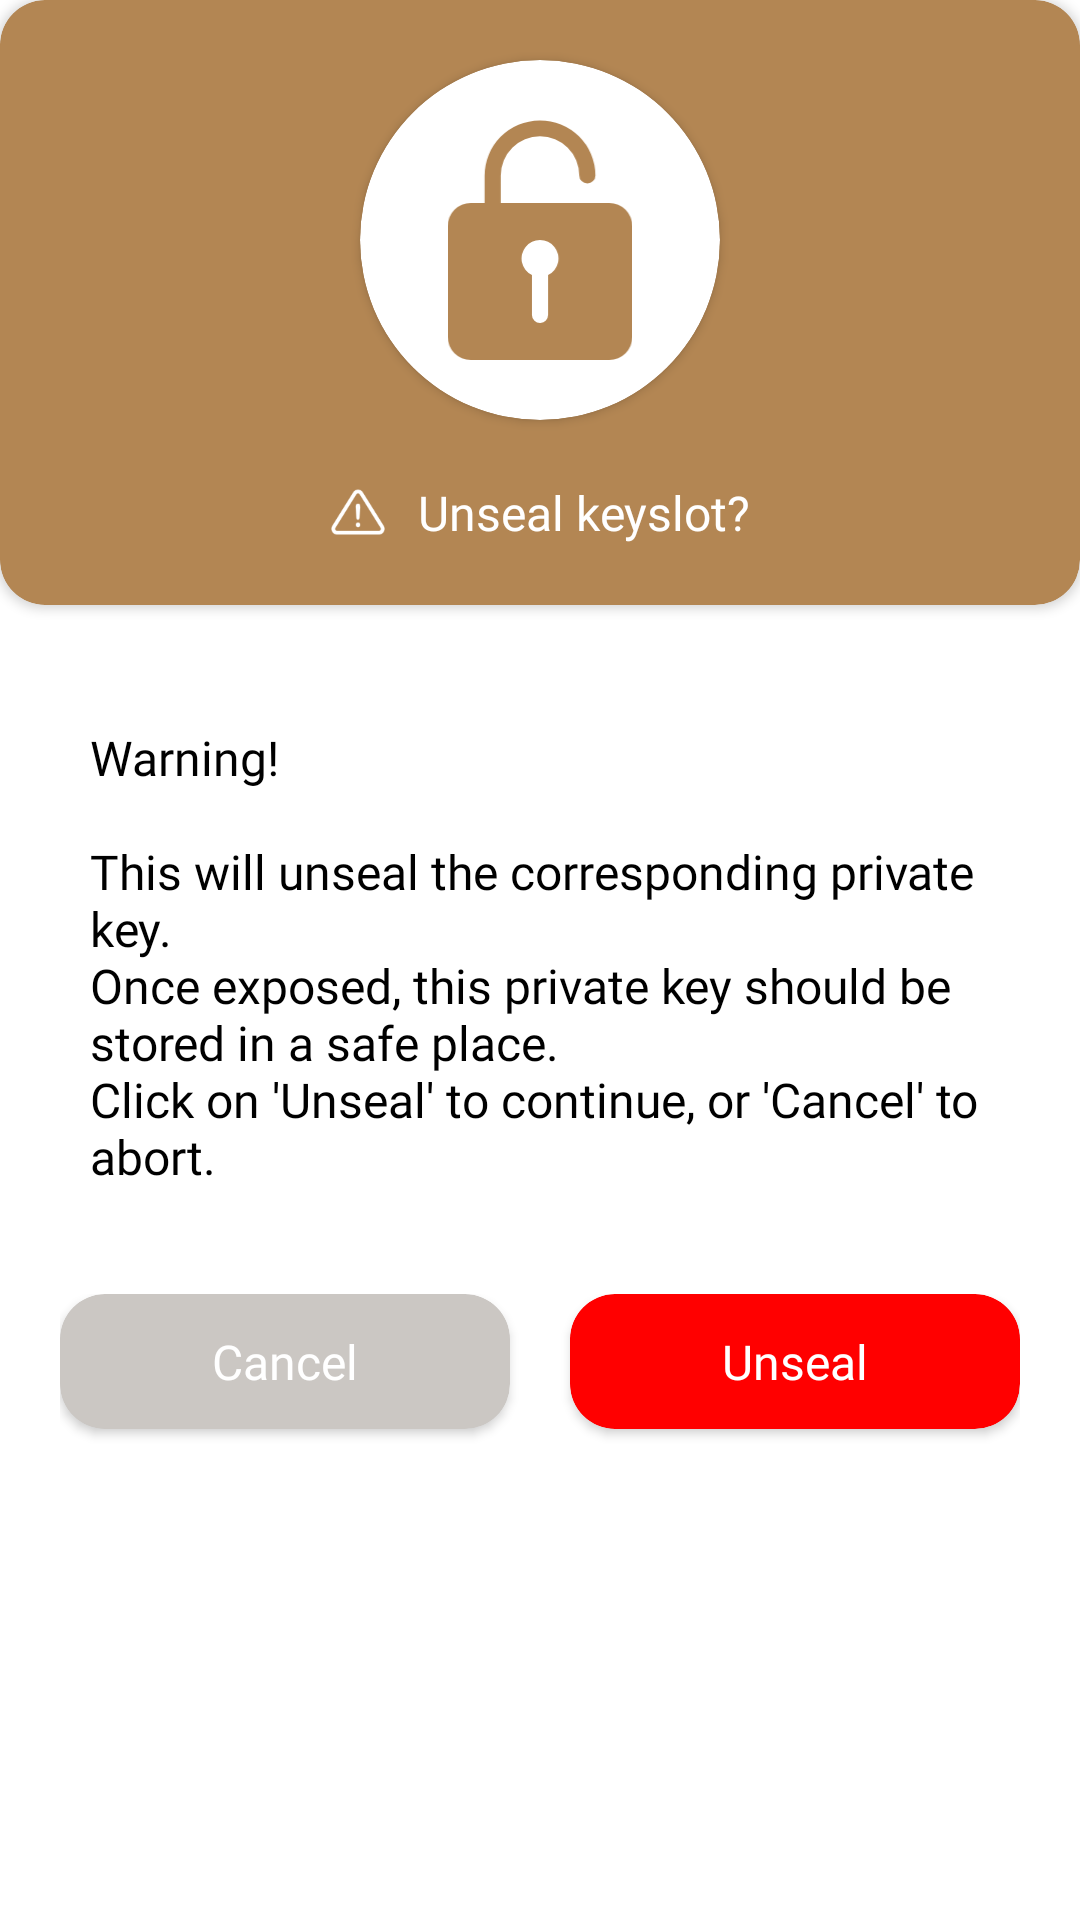

Named icons in this screenshot (1080px×1920px) and their centers, (x,y):
unlock: (540,240)
warning: (358,512)
